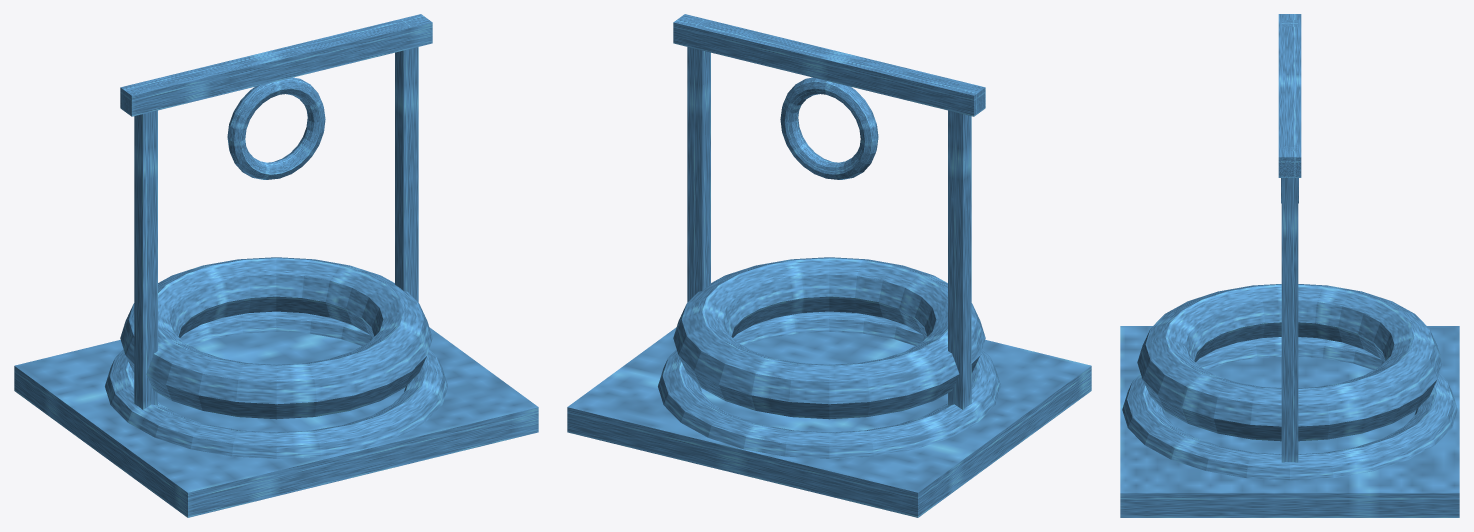
Rendered from moonwell_00.glb.
3 renders of one model, left to right at view 1: azimuth 30°, elevation 25°; view 2: azimuth 150°, elevation 25°; view 3: azimuth 270°, elevation 25°, orthographic. The views are drawn at different scales.
Visible parts, largest first — view 1: Foundation, Well, WellBase, MoonBeam, MoonPost, MoonPost.001, Moon; view 2: Foundation, Well, WellBase, MoonBeam, MoonPost, MoonPost.001, Moon; view 3: Well, Foundation, WellBase, MoonPost.001, MoonBeam.
Boxes of the visible parts, x1=… form: Foundation: x1=14, y1=327, x2=538, y2=517; Well: x1=120, y1=257, x2=432, y2=419; WellBase: x1=105, y1=311, x2=447, y2=458; MoonBeam: x1=120, y1=14, x2=432, y2=116; MoonPost: x1=134, y1=84, x2=157, y2=409; MoonPost.001: x1=395, y1=18, x2=418, y2=302; Moon: x1=227, y1=77, x2=325, y2=179; Foundation: x1=567, y1=327, x2=1091, y2=517; Well: x1=673, y1=257, x2=985, y2=419; WellBase: x1=658, y1=311, x2=1000, y2=458; MoonBeam: x1=673, y1=14, x2=985, y2=116; MoonPost: x1=948, y1=84, x2=971, y2=409; MoonPost.001: x1=687, y1=18, x2=710, y2=302; Moon: x1=780, y1=77, x2=878, y2=179; Well: x1=1137, y1=284, x2=1442, y2=441; Foundation: x1=1120, y1=326, x2=1459, y2=517; WellBase: x1=1122, y1=337, x2=1457, y2=480; MoonPost.001: x1=1281, y1=145, x2=1298, y2=462; MoonBeam: x1=1278, y1=14, x2=1301, y2=177.
Size of the model in its own units: 3.5 by 3.4 by 3.
Materials: 1 (1 with a texture image).
